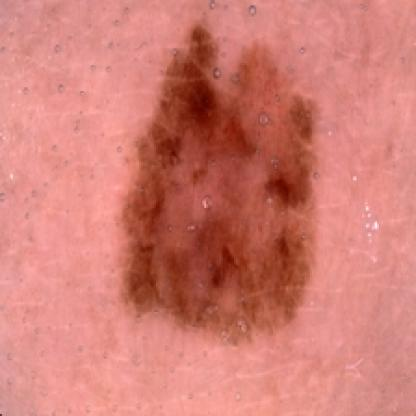Skin_Cancer-Malignant: (115, 24, 322, 350)
